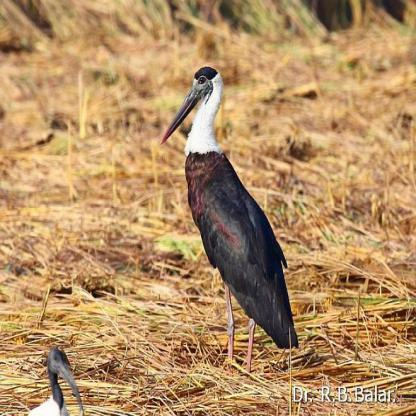Burung: (158, 62, 300, 372)
